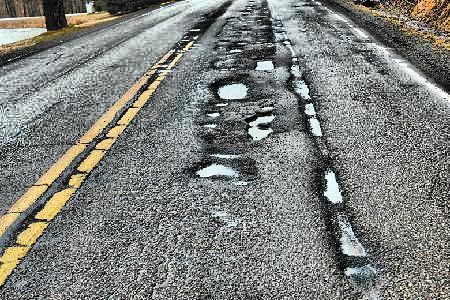pothole: (329, 212, 368, 257), (243, 111, 276, 141), (211, 75, 249, 99), (319, 169, 344, 203), (190, 160, 235, 176), (286, 74, 312, 98), (342, 265, 378, 280), (304, 115, 324, 136), (253, 56, 275, 72), (207, 150, 239, 159), (286, 55, 302, 73), (156, 63, 173, 74), (204, 109, 222, 118), (282, 38, 295, 50), (260, 40, 276, 48), (228, 46, 244, 53), (200, 121, 218, 127), (214, 100, 227, 107), (236, 40, 248, 46), (219, 37, 230, 43), (190, 27, 200, 33)
